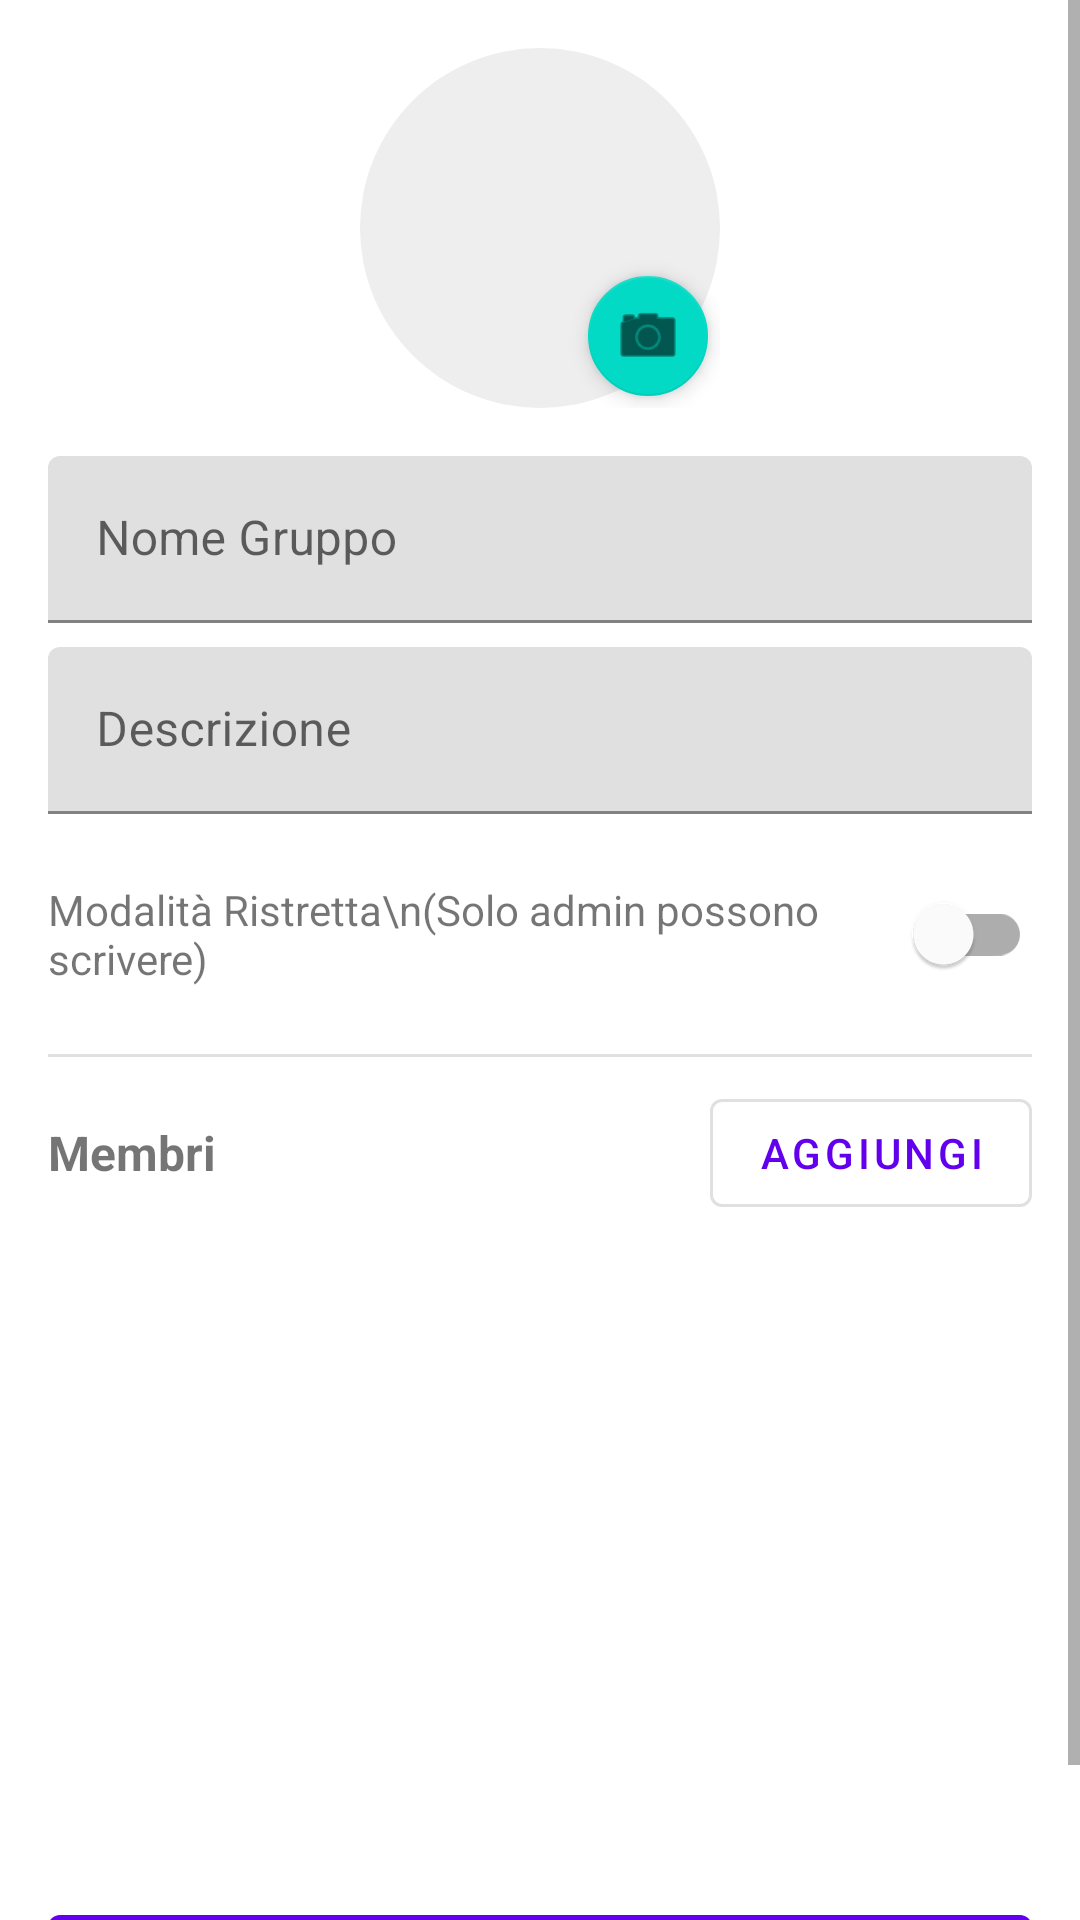

Icon bounding boxes for this 1080 × 1920 phone screenshot, format (x1, y1, x2, y2):
camera: (583, 272, 709, 398)
